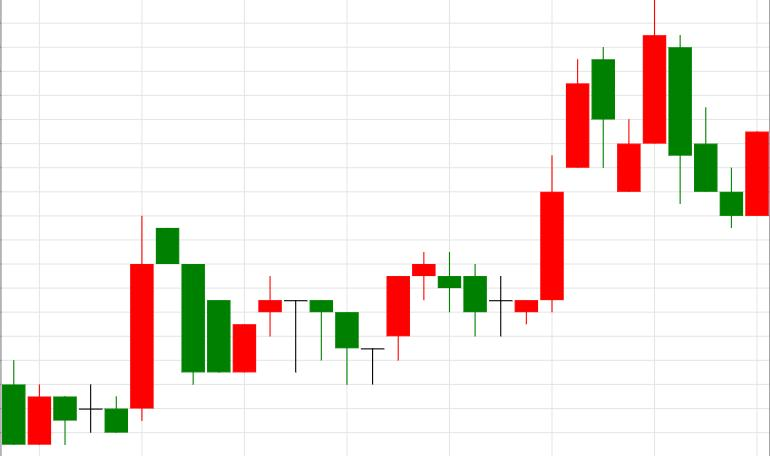morning_star_rise: (258, 276, 409, 386)
